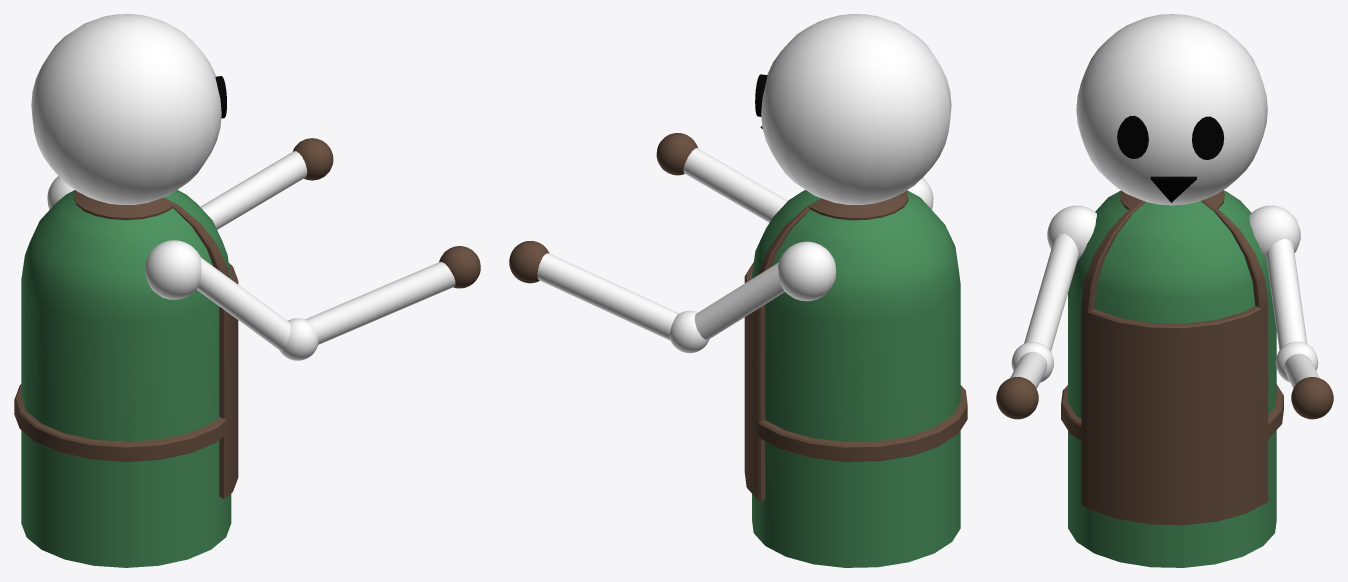
File: Shop Keeper.fbx
3 views of the same model, side by side, from view 1: azimuth 30°, elevation 25°; view 2: azimuth 150°, elevation 25°; view 3: azimuth 270°, elevation 25° (orthographic).
Visible parts, largest first — view 1: pCylinder6, pSphere47, pCylinder8, pCylinder10, pCylinder11, pSphere49, pSphere51, pSphere53, pSphere50; view 2: pCylinder6, pSphere47, pCylinder10, pCylinder8, pCylinder9, pSphere48, pSphere51, pSphere53, pSphere52; view 3: pCylinder6, pSphere47, pCylinder11, pCylinder9, pSphere48, pSphere49, pSphere53, pSphere51, pCylinder13, pCylinder12, pCylinder8, pCylinder10 (+3 smaller).
Part boxes in pixels (x1,y1,x2,y2): pCylinder6: (14,190,238,567); pSphere47: (31,14,221,204); pCylinder8: (305,262,455,344); pCylinder10: (200,151,307,229); pCylinder11: (196,257,290,351); pSphere49: (145,240,201,299); pSphere51: (439,246,480,288); pSphere53: (292,138,333,180); pSphere50: (279,318,318,360); pCylinder6: (744,190,967,567); pSphere47: (761,14,951,205); pCylinder10: (537,253,678,340); pCylinder8: (683,148,787,222); pCylinder9: (694,262,784,339); pSphere48: (778,241,836,301); pSphere51: (656,133,697,175); pSphere53: (509,241,549,283); pSphere52: (669,310,709,353); pCylinder6: (1061,190,1283,567); pSphere47: (1076,14,1267,205); pCylinder11: (1024,233,1078,351); pCylinder9: (1266,239,1307,350); pSphere48: (1249,205,1300,258); pSphere49: (1047,205,1096,260); pSphere53: (1291,377,1333,419); pSphere51: (996,377,1038,419); pCylinder13: (1192,116,1224,159); pCylinder12: (1117,115,1148,158); pCylinder8: (1010,351,1047,388); pCylinder10: (1284,353,1319,388).
Size of the model in its own units: 4.74 by 6.11 by 3.73.
